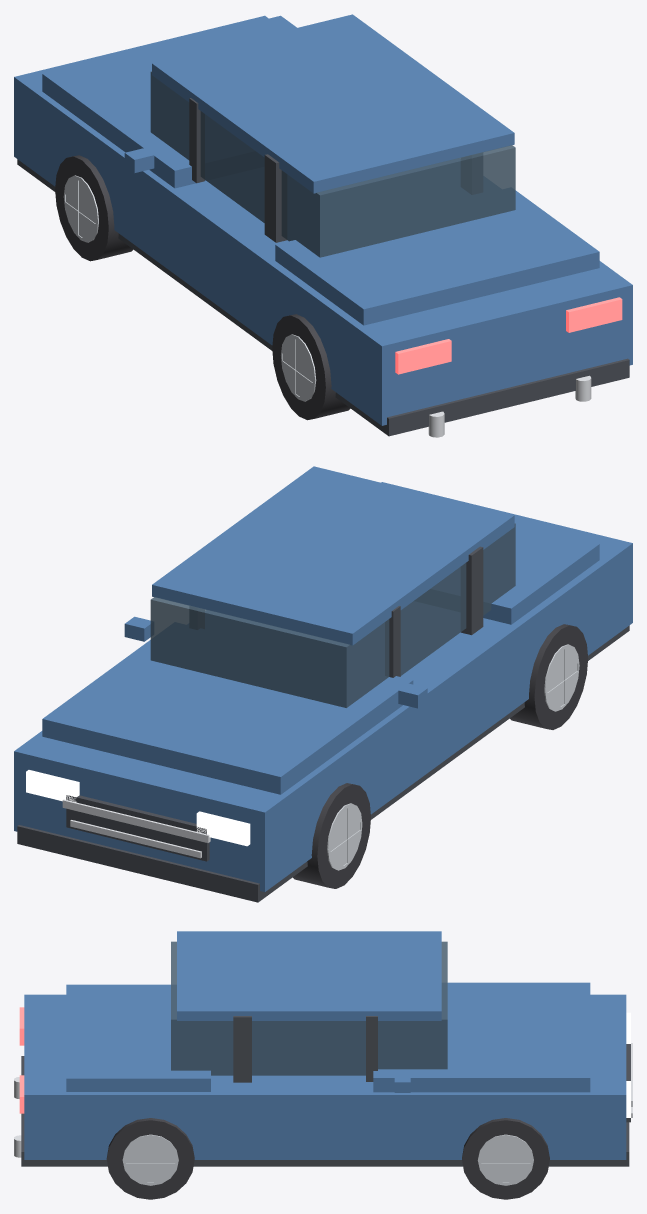
File: gentra.glb
3 renders of one model, top to bottom at view 1: azimuth 30°, elevation 25°; view 2: azimuth 150°, elevation 25°; view 3: azimuth 270°, elevation 25°, orthographic. The views are drawn at different scales.
Visible parts, largest first — view 1: Gentra_Body, wheel_rl, wheel_fl; view 2: Gentra_Body, wheel_rl, wheel_fl; view 3: Gentra_Body, wheel_rr, wheel_fr.
Boxes of the visible parts, x1,y1,x2,y2 form: Gentra_Body: (14, 14, 632, 437); wheel_rl: (272, 314, 350, 420); wheel_fl: (55, 155, 133, 261); Gentra_Body: (14, 466, 632, 902); wheel_rl: (510, 624, 588, 729); wheel_fl: (293, 783, 370, 888); Gentra_Body: (14, 931, 632, 1166); wheel_rr: (106, 1118, 194, 1199); wheel_fr: (462, 1118, 549, 1199).
Bounding box in the file's own units: 2.08 × 1.46 × 4.65.
